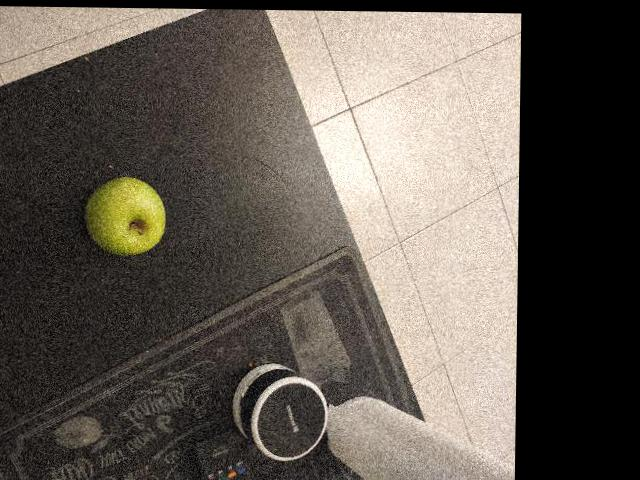apple: (255, 33, 356, 148)
